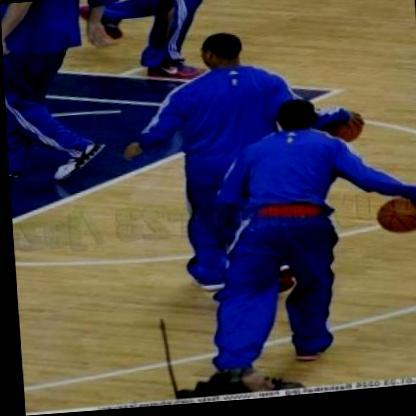basketball: (367, 196, 416, 244), (319, 110, 366, 153)
